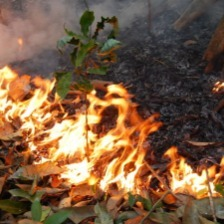incendio: (1, 69, 221, 206), (1, 29, 73, 55)
